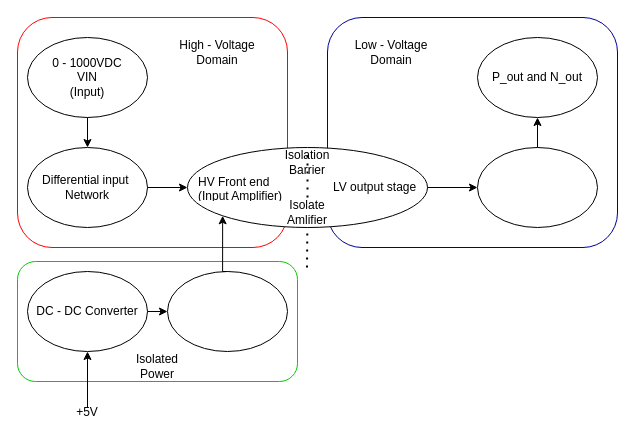
This 635x445 diagram has some shape labels left out. Here are the shapes that lost their labels. From the top down, the centre of each, then its label:
[537,187]: Output Filter / Gain Network
[227,311]: LC Filter
